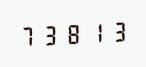eight: (62, 20, 83, 46)
one: (84, 19, 105, 45)
seven: (18, 22, 39, 48)
three: (40, 21, 61, 47), (106, 18, 127, 44)
